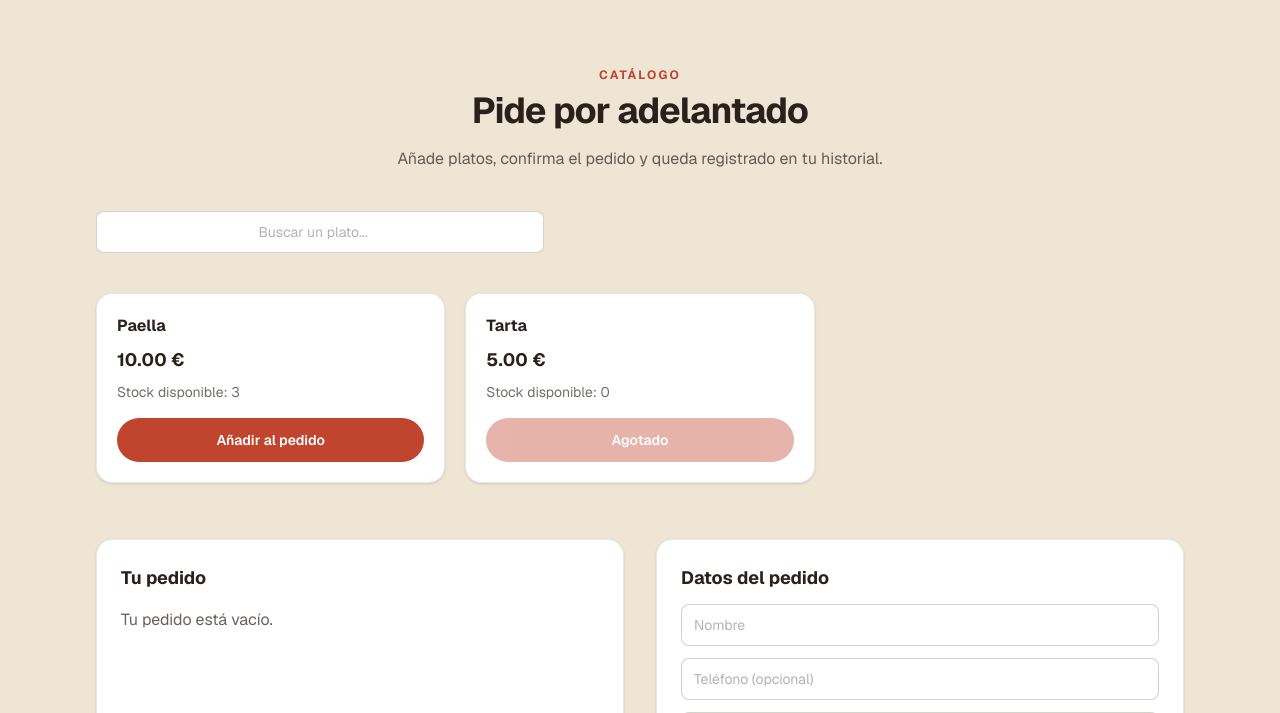
Test: PedidoSection › recarga el catálogo tras confirmar para mostrar el stock descontado
Expected: the text "Stock disponible: 3" is shown, [117,383,240,401]
Click the button "Añadir al pedido": coordinates (271, 440) [117,418,424,462]
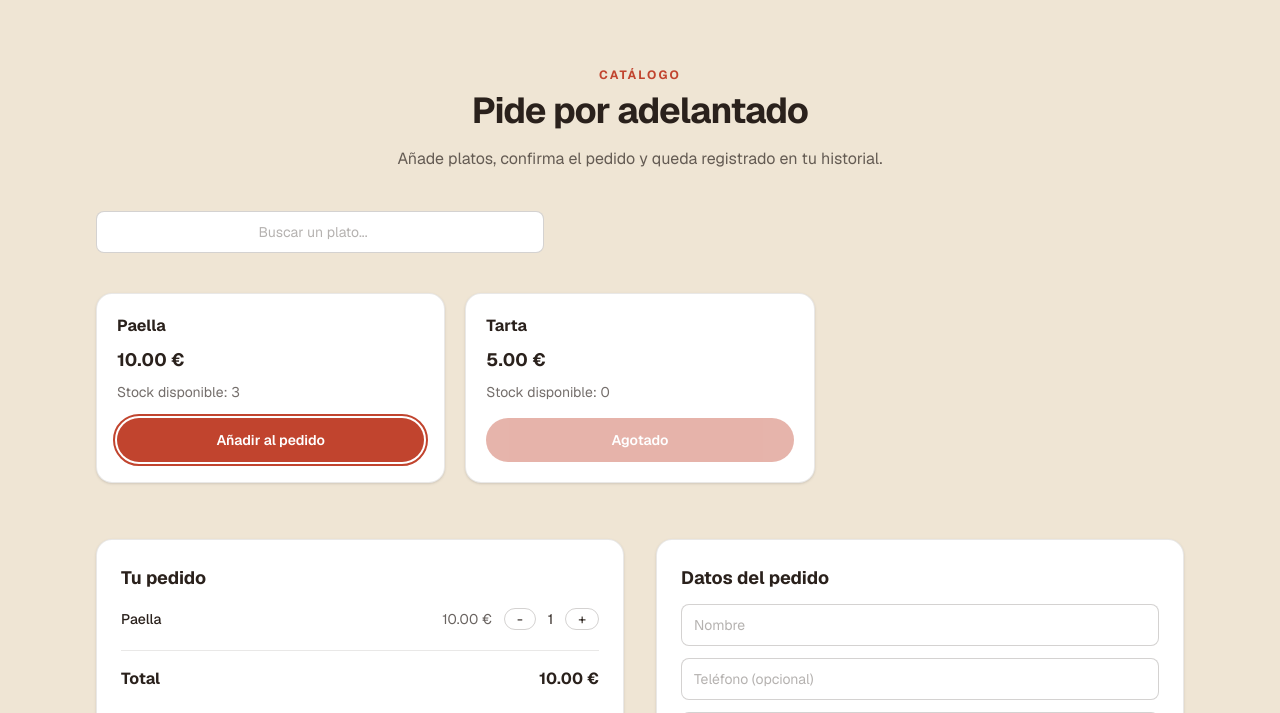
In the field with placeholder "Nombre": coordinates (920, 625) [681,604,1159,646], type "Ana"
(page scrolled)
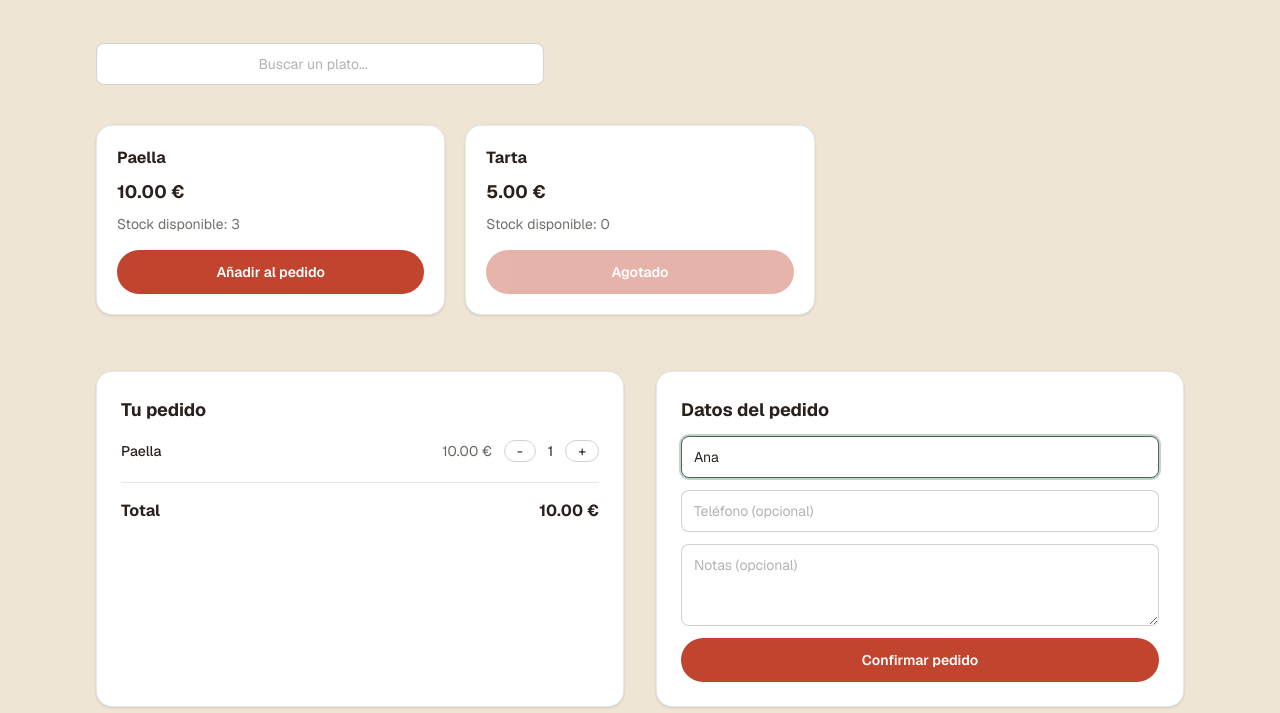
Click the button "Confirmar pedido": coordinates (920, 660) [681,638,1159,682]
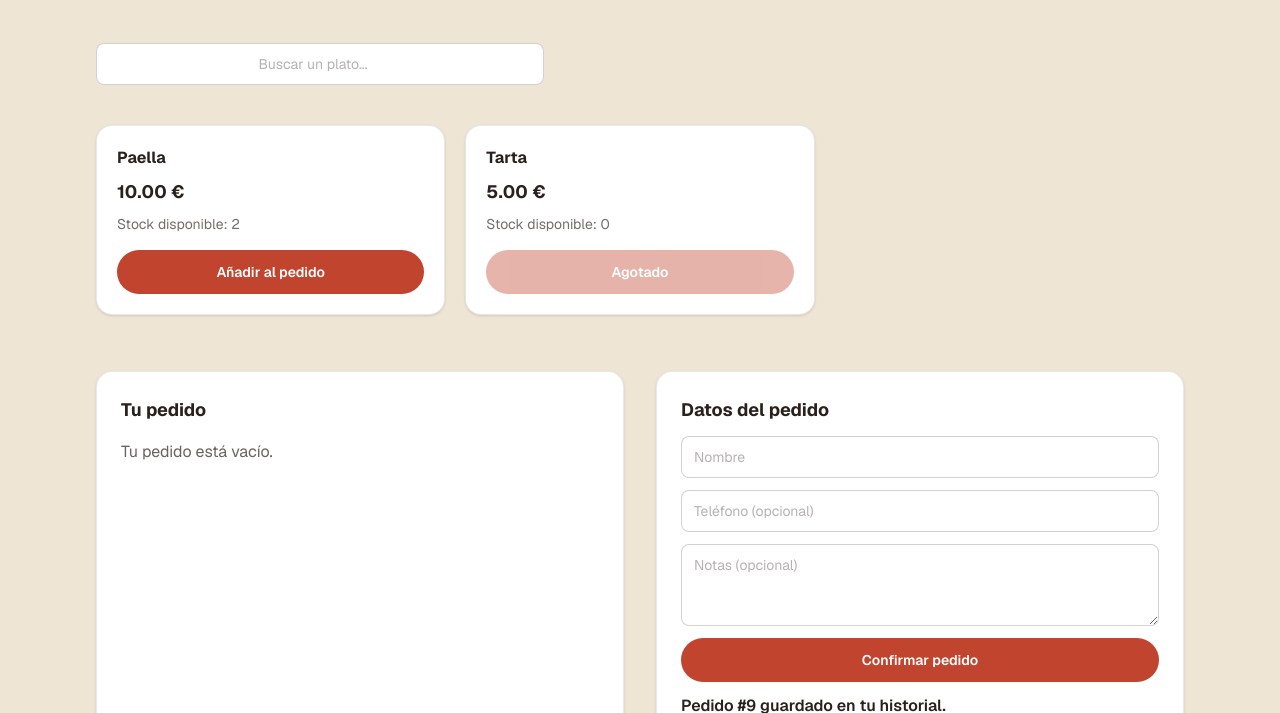
Result: the text "Stock disponible: 2" is shown at [117,215,240,233]
